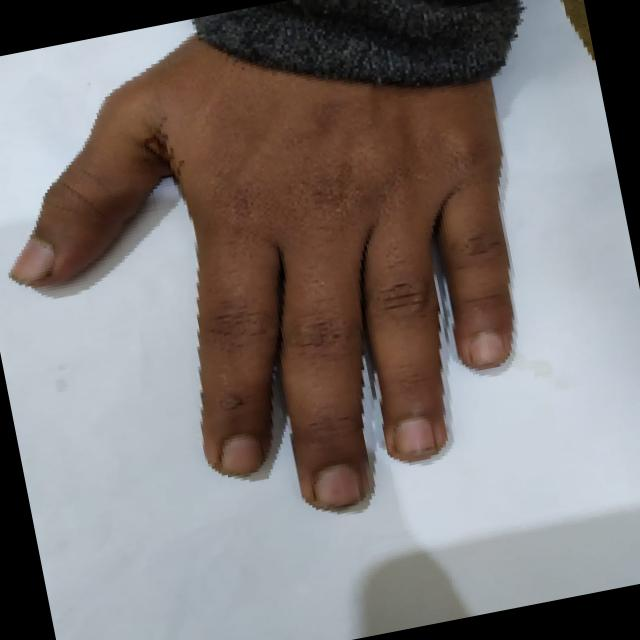Nail: (10, 237, 55, 285), (317, 463, 362, 507), (221, 434, 262, 476), (394, 417, 436, 454), (469, 331, 506, 366)
